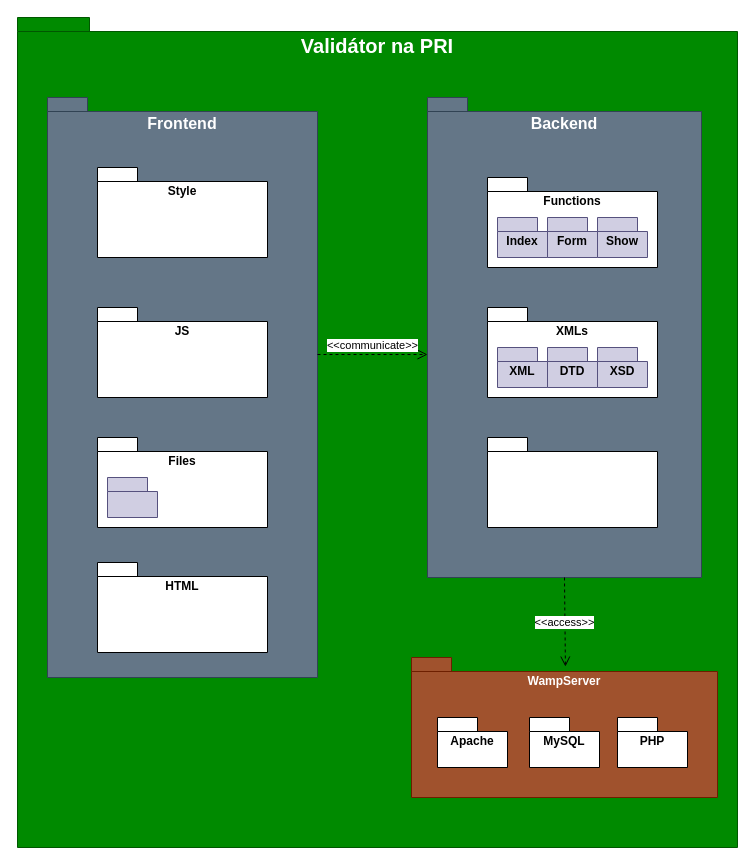
Some shapes in this 755 by 865 pixel diagram are drawn without their labels. The shapes that lost their labels are listed below. From the top down, each one's centre as x and y in pixels, then its label:
At (132,497): "Images".
At (572,482): "DB".
